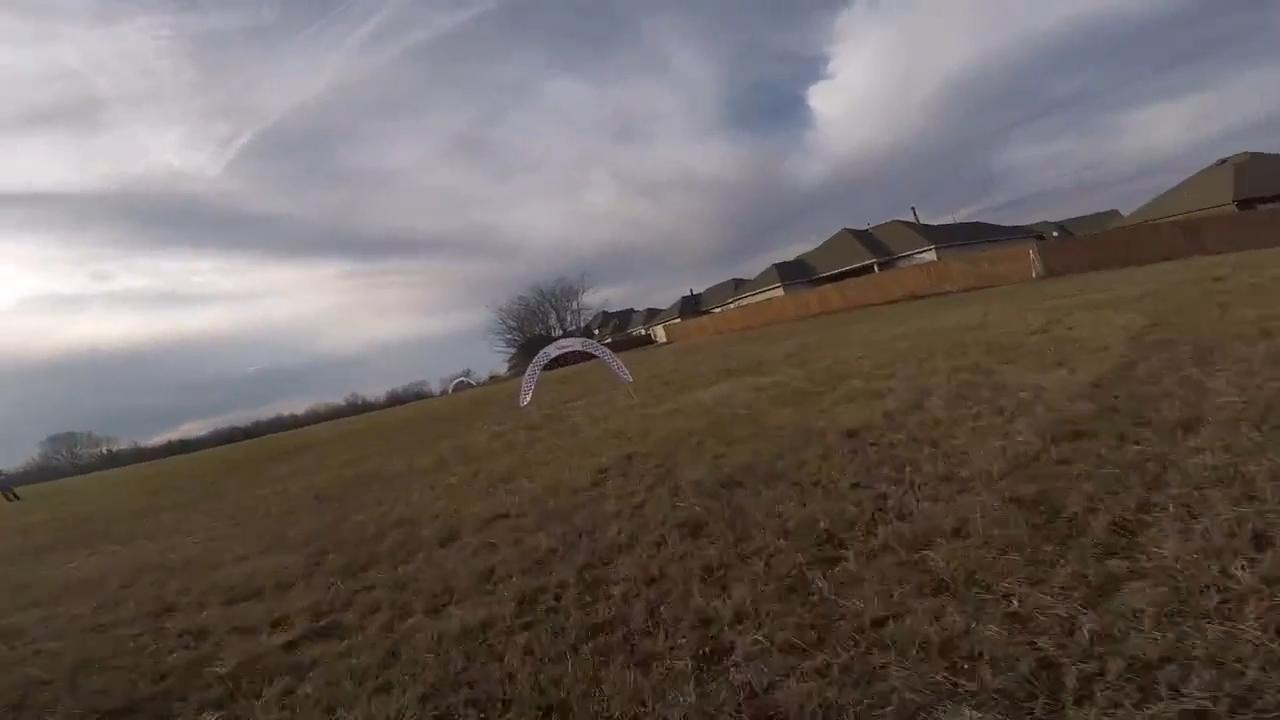gate: (513, 335, 634, 408)
